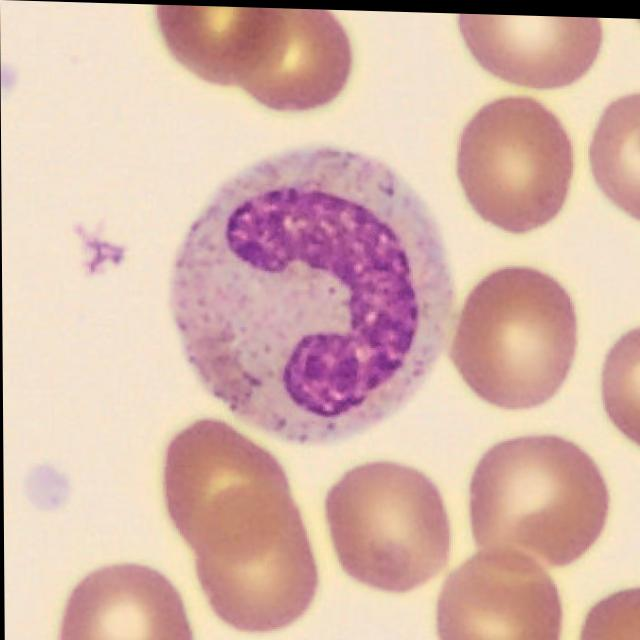Neutrofilo segmentado: (168, 142, 454, 443)
